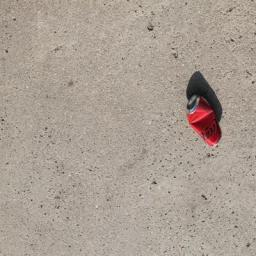FOD: (181, 68, 231, 152)
